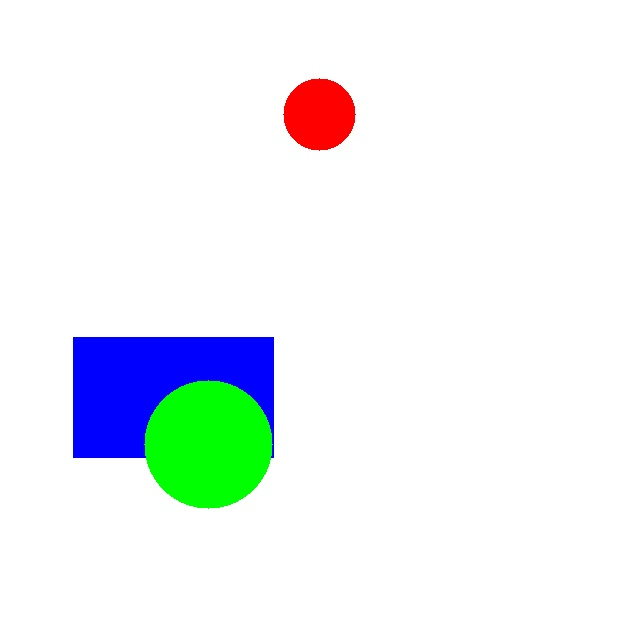cartao: (73, 337, 273, 457)
rosca_externa: (144, 380, 272, 508)
rosca_interna: (283, 78, 355, 150)
